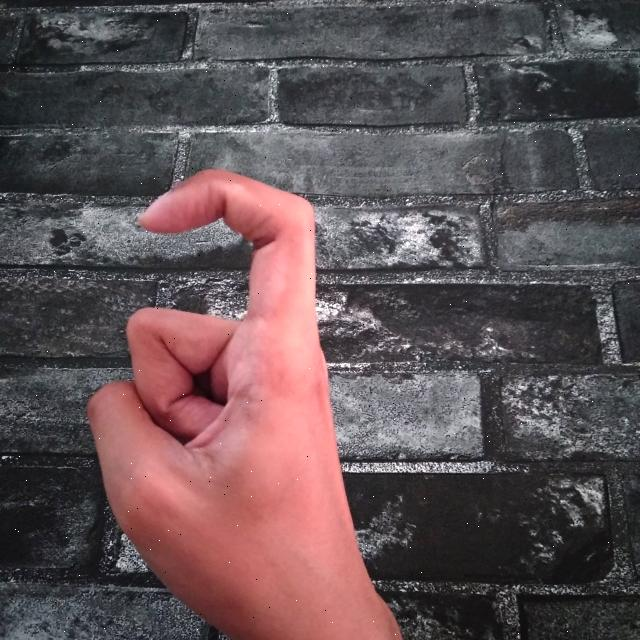X: (77, 161, 412, 640)
